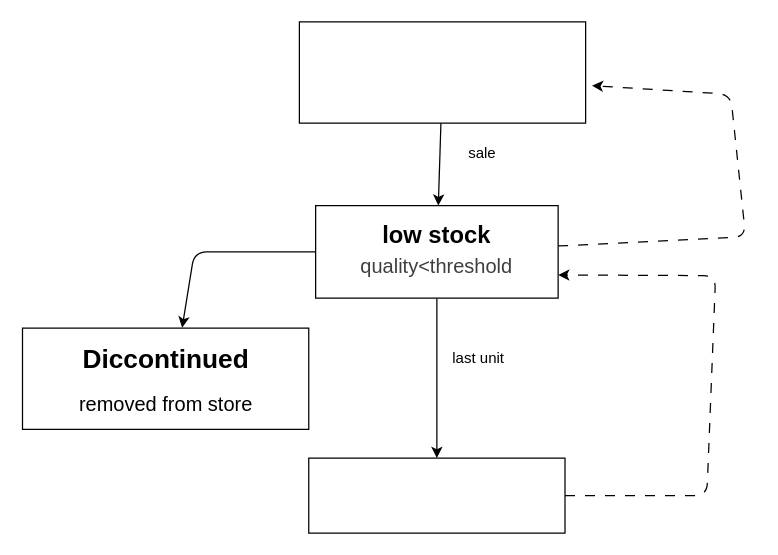
The diagram is 778 pixels wide and 555 high, and some of its shapes have lost their labels. Here are the shapes that lost their labels. From the top down, the centre of each, then its label:
the point at 442,72: In stock quality>threshold
the point at 436,495: Out of Stock quantity=0,sales blocked
